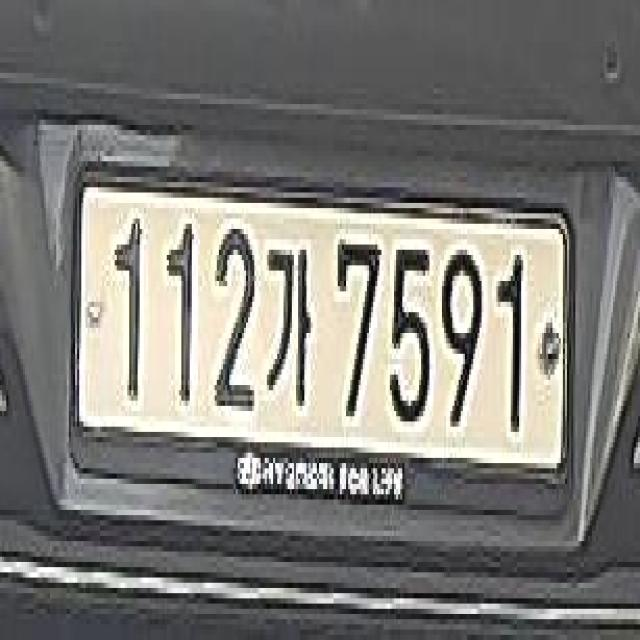illegal_plate: (72, 166, 574, 542)
